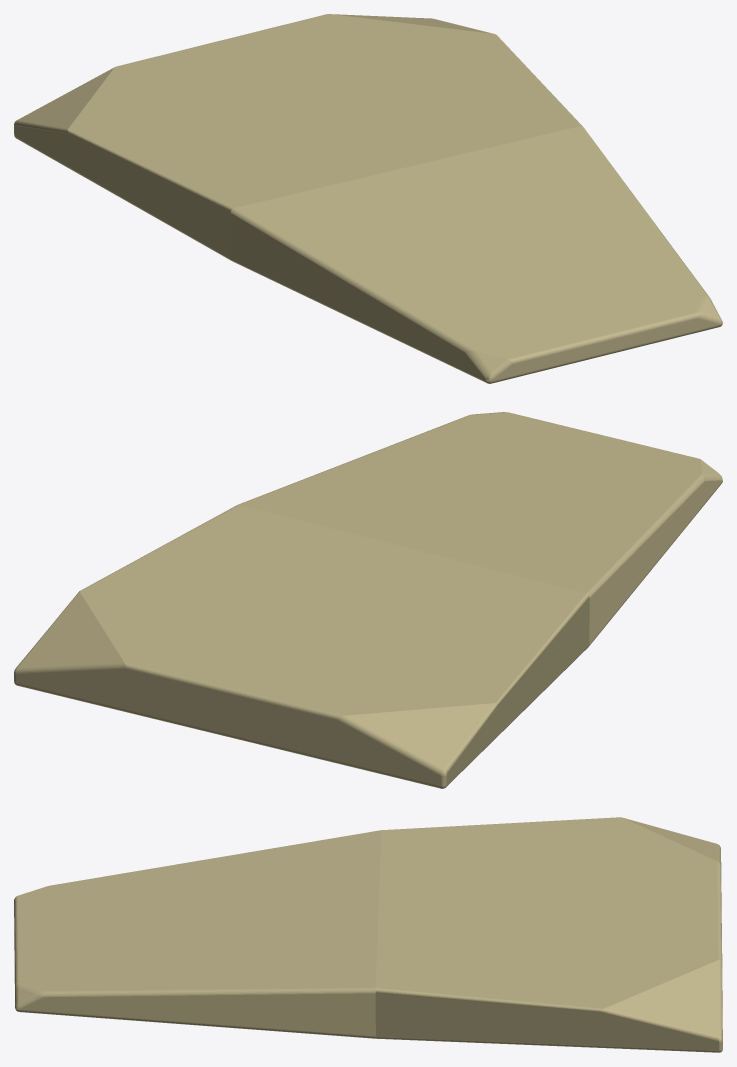
Rendered from Rtile_high.fbx.
3 renders of one model, top to bottom at view 1: azimuth 30°, elevation 25°; view 2: azimuth 150°, elevation 25°; view 3: azimuth 270°, elevation 25°, orthographic. The views are drawn at different scales.
Parts seen in each view (by area): view 1: Rtile_high; view 2: Rtile_high; view 3: Rtile_high.
Boxes of the visible parts, x1,y1,x2,y2 form: Rtile_high: (14, 14, 722, 383); Rtile_high: (14, 412, 722, 788); Rtile_high: (14, 817, 722, 1052).
Bounding box in the file's own units: 43.49 × 5.33 × 67.02.
